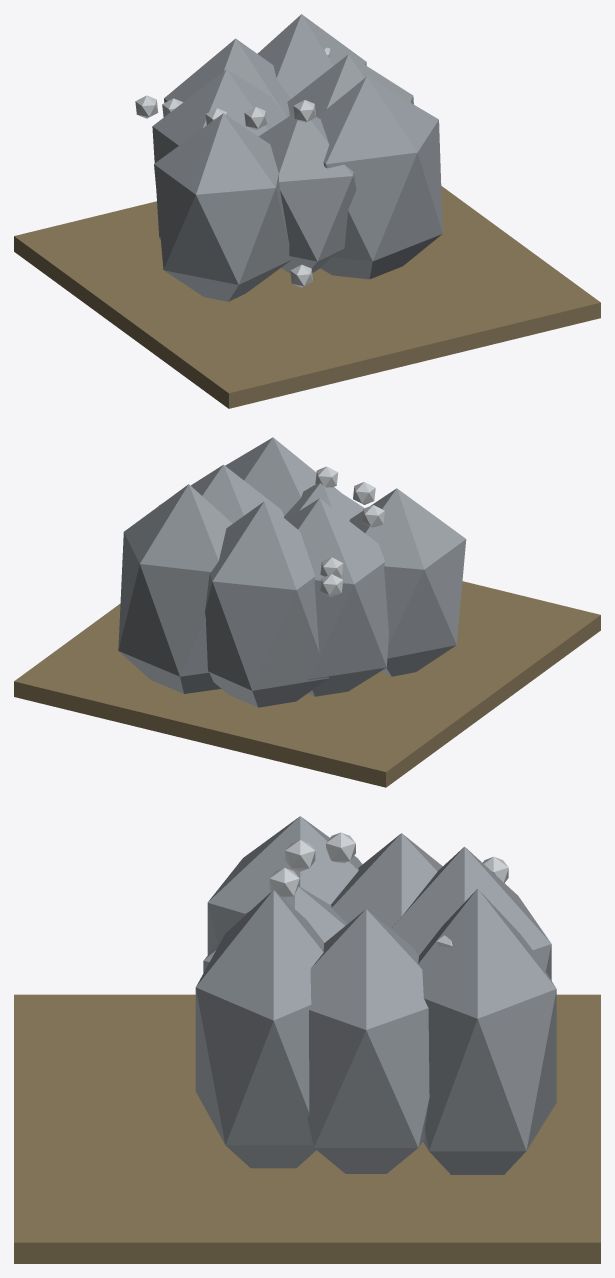
File: Deposit_Tin_Normal.fbx
The picture shows the model from 3 angles, top to bottom: view 1: azimuth 30°, elevation 25°; view 2: azimuth 150°, elevation 25°; view 3: azimuth 270°, elevation 25°; orthographic projection. The views are drawn at different scales.
Parts seen in each view (by area): view 1: Deposit_Tin_Normal_Body; view 2: Deposit_Tin_Normal_Body; view 3: Deposit_Tin_Normal_Body.
Part boxes in pixels (x1=…): Deposit_Tin_Normal_Body: x1=14, y1=14, x2=600, y2=408; Deposit_Tin_Normal_Body: x1=14, y1=437, x2=600, y2=787; Deposit_Tin_Normal_Body: x1=14, y1=816, x2=600, y2=1263.
Size of the model in its own units: 1 by 0.5913 by 1.
